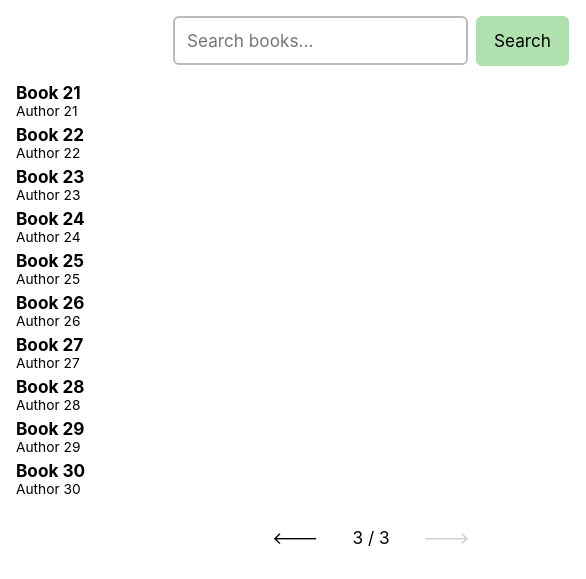
given the user is on the last page of results, when the user clicks on the "Previous page" button, it should show the second page of results and the expected pa
Expected: the text "3 / 3" is shown, top-left (254, 512), bottom-right (488, 562)
Click the 1st button named "Previous page" at (295, 537), box top-left (254, 512), bottom-right (336, 562)
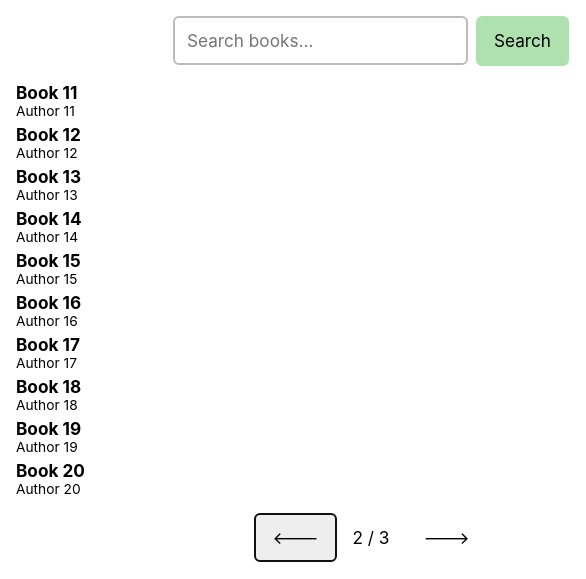
Result: the text "Book 11" is shown at top-left (16, 82), bottom-right (77, 102)
Result: the text "Book 12" is shown at top-left (16, 124), bottom-right (81, 144)
Result: the text "2 / 3" is shown at top-left (254, 512), bottom-right (488, 562)
